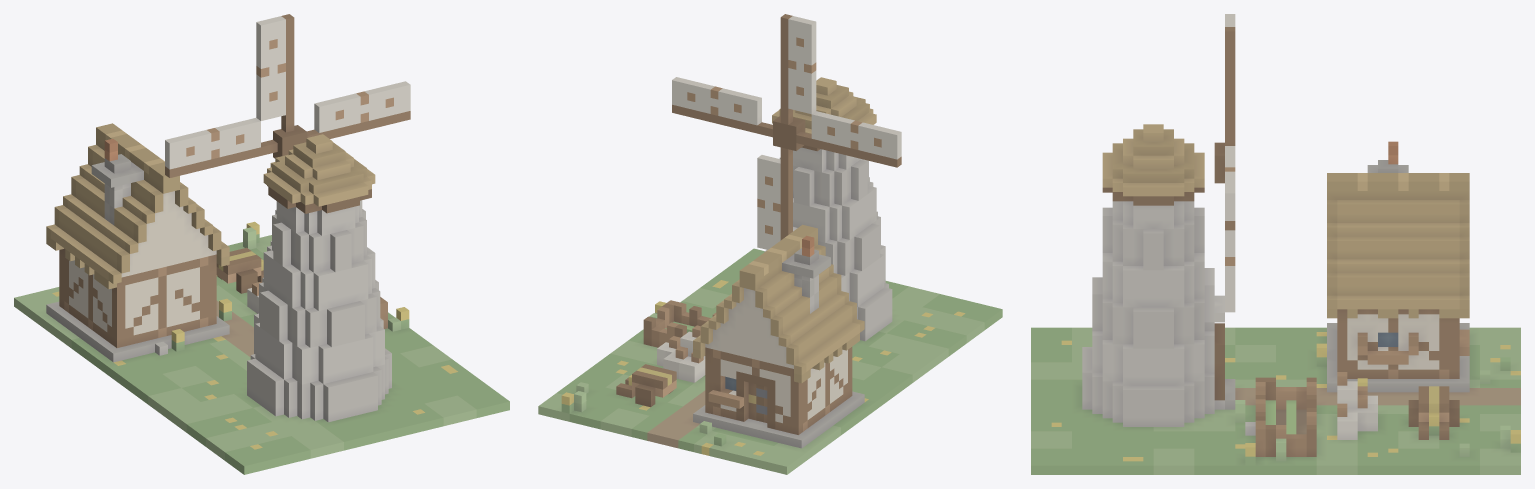
File: mill.glb
The picture shows the model from 3 angles, left to right: view 1: azimuth 30°, elevation 25°; view 2: azimuth 150°, elevation 25°; view 3: azimuth 270°, elevation 25°; orthographic projection. The views are drawn at different scales.
Parts seen in each view (by area): view 1: mill; view 2: mill; view 3: mill.
Boxes of the visible parts, box(x1,y1,x2,y2) form: mill: box(14, 14, 509, 474); mill: box(538, 14, 1002, 474); mill: box(1031, 14, 1520, 474).
Bounding box in the file's own units: 4 × 5.12 × 6.
